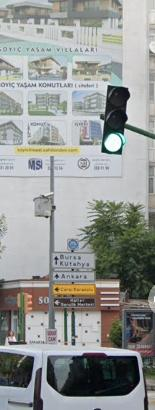greenlight: (103, 83, 129, 154)
